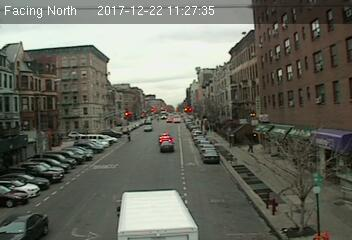car: (201, 149, 219, 163), (160, 141, 175, 151)
